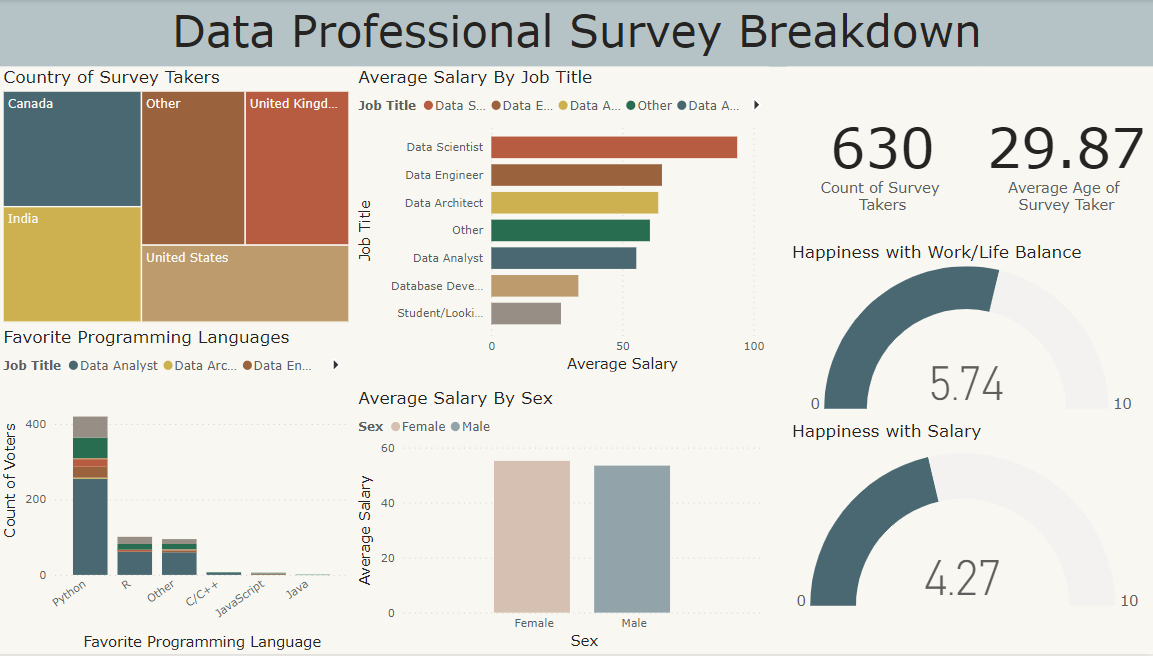

The page's visual inventory and layout, read from the dashboard file:
{"tool":"powerbi","page":{"name":"Page 1","canvas":[1280,720],"ordinal":0},"visuals":[{"type":"textbox","box":[9.6,0,1270.4,74.2],"z":0},{"type":"card","fields":{"Values":["Count(Data Professional Survey.Unique ID)"]},"box":[876.2,74.2,208.8,190.9],"z":1000},{"type":"card","fields":{"Values":["Avg(Data Professional Survey.Q10 - Current Age)"]},"box":[1085,74.2,195,190.9],"z":2000},{"type":"barChart","title":"Average Salary By Job Title","fields":{"Category":["Data Professional Survey.Q1 - Which Title Best Fits your Current Role?.1"],"Y":["Avg(Data Professional Survey.Average Salary)"],"Series":["Data Professional Survey.Q1 - Which Title Best Fits your Current Role?.1"]},"box":[399.7,74.2,456,340.6],"z":2001},{"type":"columnChart","title":"Favorite Programming Languages","fields":{"Category":["Data Professional Survey.Q5 - Favorite Programming Language.1"],"Y":["CountNonNull(Data Professional Survey.Unique ID)"],"Series":["Data Professional Survey.Q1 - Which Title Best Fits your Current Role?.1"]},"box":[9.6,359.8,390,359.8],"z":2002},{"type":"treemap","title":"Country of Survey Takers","fields":{"Group":["Data Professional Survey.Q11 - Which Country do you live in?.1"],"Values":["Count(Data Professional Survey.Q11 - Which Country do you live in?.1)"]},"box":[9.6,74.2,390,285.7],"z":2003},{"type":"gauge","title":"Happiness with Work/Life Balance","fields":{"Y":["Avg(Data Professional Survey.Q6 - How Happy are you in your Current Position with the following? (Work/Life Balance))"],"MinValue":["Min(Data Professional Survey.Q6 - How Happy are you in your Current Position with the following? (Work/Life Balance))1"],"MaxValue":["Max(Data Professional Survey.Q6 - How Happy are you in your Current Position with the following? (Work/Life Balance))2"]},"box":[876.2,266.4,403.8,193.6],"z":2004},{"type":"gauge","title":"Happiness with Salary","fields":{"Y":["Avg(Data Professional Survey.Q6 - How Happy are you in your Current Position with the following? (Salary))"],"MinValue":["Min(Data Professional Survey.Q6 - How Happy are you in your Current Position with the following? (Salary))"],"MaxValue":["Max(Data Professional Survey.Q6 - How Happy are you in your Current Position with the following? (Salary))"]},"box":[876.2,462.8,395.5,222.5],"z":2005},{"type":"columnChart","title":"Average Salary By Sex","fields":{"Category":["Data Professional Survey.Q9 - Male/Female?"],"Y":["Avg(Data Professional Survey.Average Salary)"],"Series":["Data Professional Survey.Q9 - Male/Female?"]},"box":[399.7,427.1,456,292.5],"z":2006}]}

Visuals, with their boxes in screenshot pixels (x1, y1, x2, y2), scaled from the page's 1280x720 canvas onto the 1153x656 screenshot:
textbox: region(9, 0, 1152, 68)
card - Count(Data Professional Survey.Unique ID): region(789, 68, 977, 242)
card - Avg(Data Professional Survey.Q10 - Current Age): region(977, 68, 1152, 242)
"Average Salary By Job Title" barChart: region(360, 68, 771, 378)
"Favorite Programming Languages" columnChart: region(9, 328, 360, 655)
"Country of Survey Takers" treemap: region(9, 68, 360, 328)
"Happiness with Work/Life Balance" gauge: region(789, 243, 1152, 419)
"Happiness with Salary" gauge: region(789, 422, 1146, 624)
"Average Salary By Sex" columnChart: region(360, 389, 771, 655)
